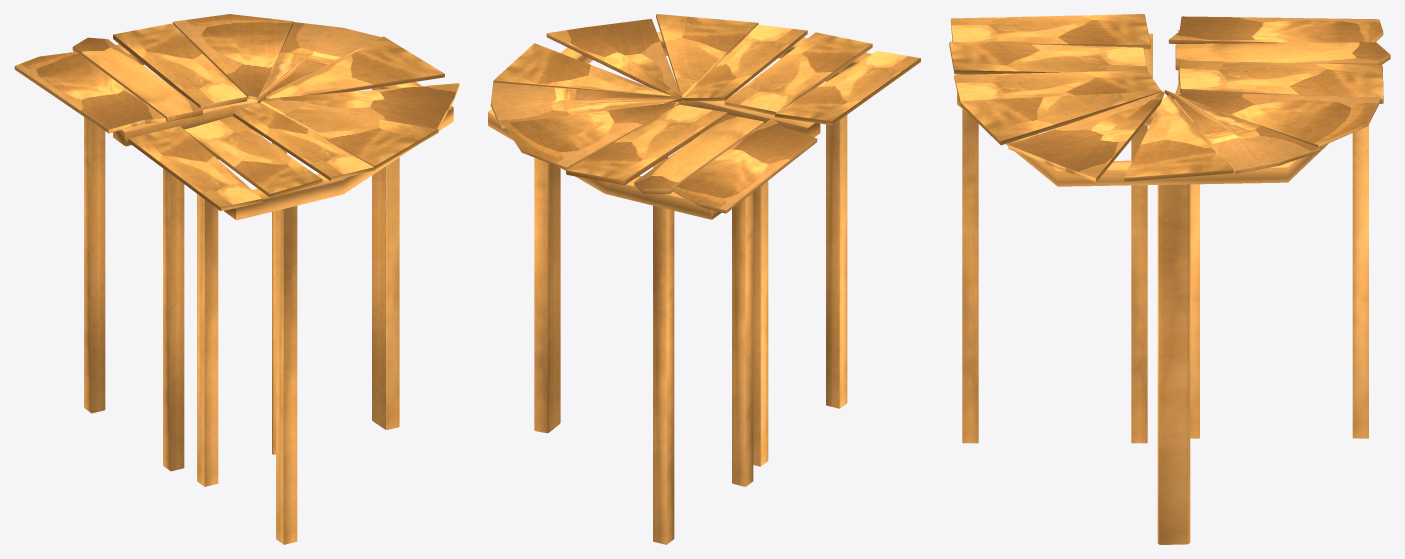
Rendered from SM_Dock_180.fbx.
3 renders of one model, left to right at view 1: azimuth 30°, elevation 25°; view 2: azimuth 150°, elevation 25°; view 3: azimuth 270°, elevation 25°, orthographic. The views are drawn at different scales.
Parts seen in each view (by area): view 1: SM_Dock_180_LOD0; view 2: SM_Dock_180_LOD0; view 3: SM_Dock_180_LOD0.
Boxes of the visible parts, bbox=[...] form: SM_Dock_180_LOD0: bbox=[14, 14, 459, 544]; SM_Dock_180_LOD0: bbox=[488, 14, 920, 544]; SM_Dock_180_LOD0: bbox=[949, 14, 1390, 544].
Size of the model in its own units: 416 by 477 by 461.
